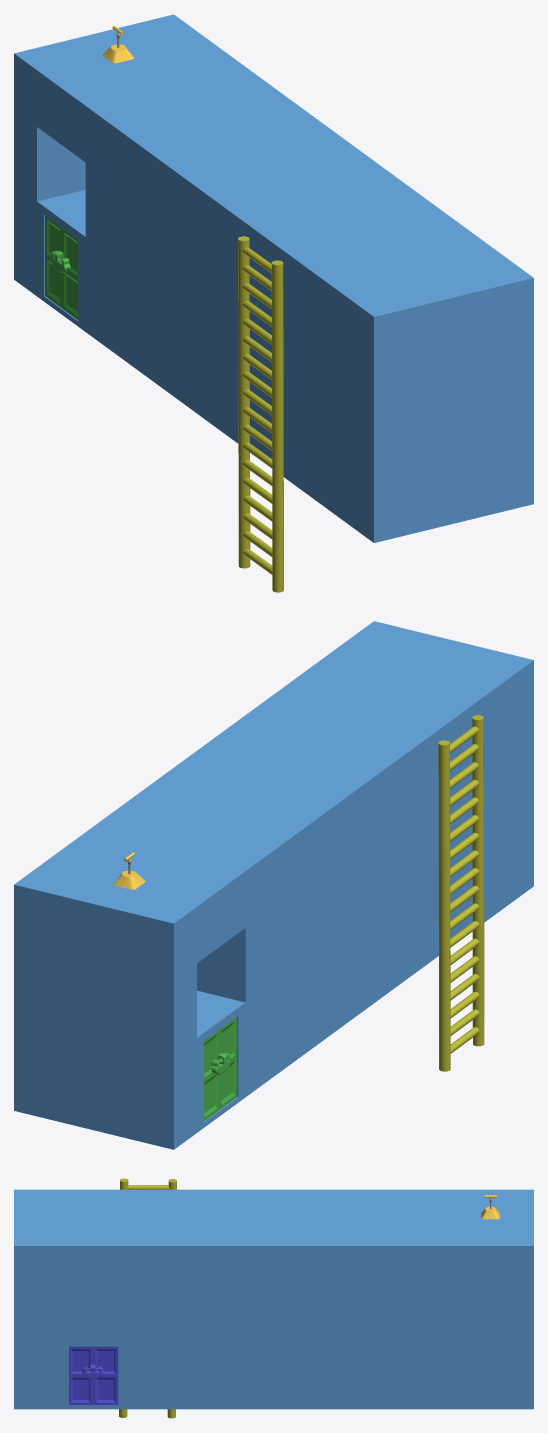
The model's file is Stage003_moveWall001.fbx.
3 renders of one model, top to bottom at view 1: azimuth 30°, elevation 25°; view 2: azimuth 150°, elevation 25°; view 3: azimuth 270°, elevation 25°, orthographic. The views are drawn at different scales.
Parts seen in each view (by area): view 1: moveCube, ladder005, Door (×2); view 2: moveCube, ladder005, Door (×2); view 3: moveCube, Door (×2), ladder005.
Boxes of the visible parts, left/top/right/bottom form: moveCube: left=14, top=14, right=533, bottom=542; ladder005: left=238, top=236, right=283, bottom=592; Door (×2): left=45, top=216, right=78, bottom=319; moveCube: left=14, top=621, right=533, bottom=1149; ladder005: left=438, top=715, right=484, bottom=1071; Door (×2): left=204, top=1017, right=236, bottom=1120; moveCube: left=14, top=1189, right=533, bottom=1409; Door (×2): left=69, top=1346, right=118, bottom=1405; ladder005: left=119, top=1178, right=176, bottom=1418.
Bounding box in the file's own units: 10.9 × 19.28 × 35.7.
5 materials, 1 textured.
